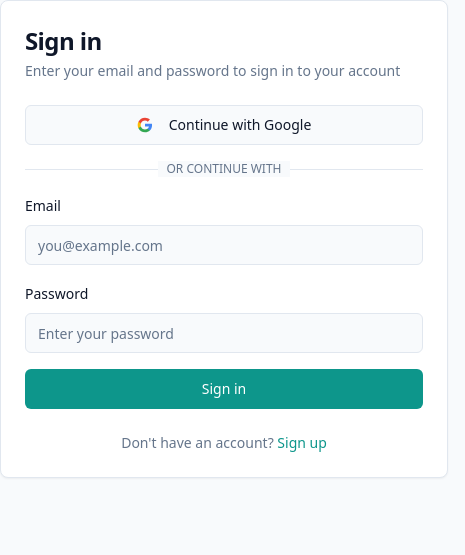
Test: SignInForm › should display generic error on exception
Type "test@example.com" into the field labelled "Email".
click(224, 245); type("test@example.com")  # box [25,225,423,265]
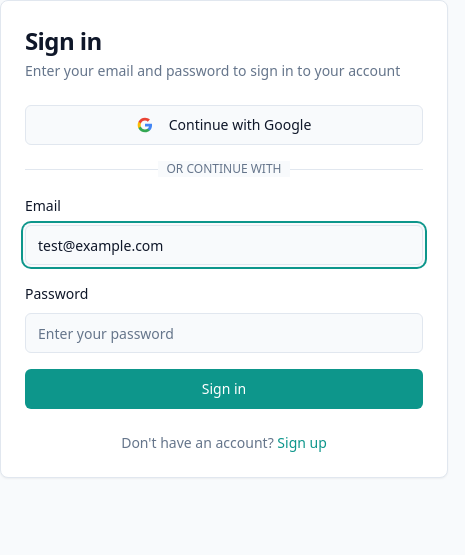
Type "password123" into the password field labelled "Password".
click(224, 333); type("password123")  # box [25,313,423,353]
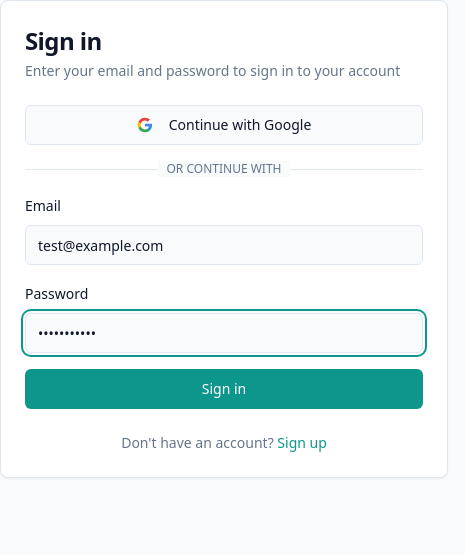
Click the button "Sign in".
click(224, 389)  # box [25,369,423,409]
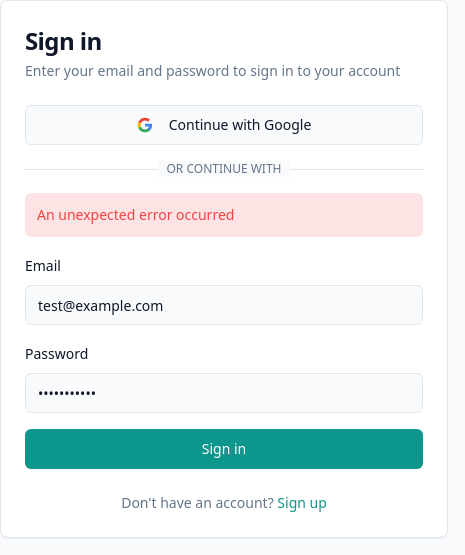
Result: the text "An unexpected error occurred" is shown at [25,193,423,237]
